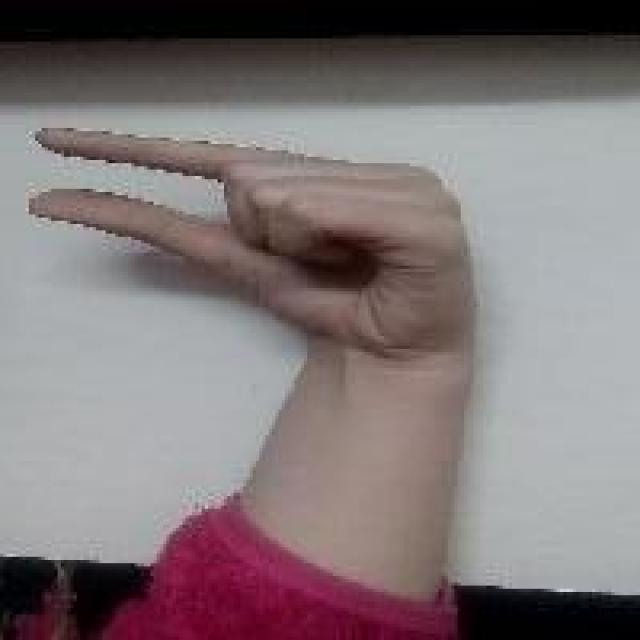G: (27, 118, 482, 368)
